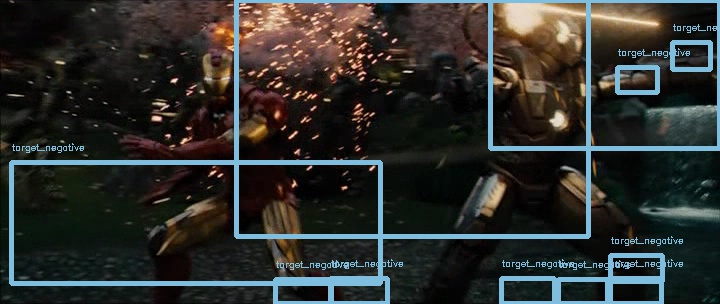person: (197, 51, 239, 98), (196, 51, 238, 98), (198, 51, 240, 98), (197, 50, 239, 97), (197, 52, 239, 99)
target_negative: (560, 11, 671, 278), (514, 207, 684, 270), (317, 108, 430, 147), (699, 95, 701, 267), (695, 169, 698, 271)
